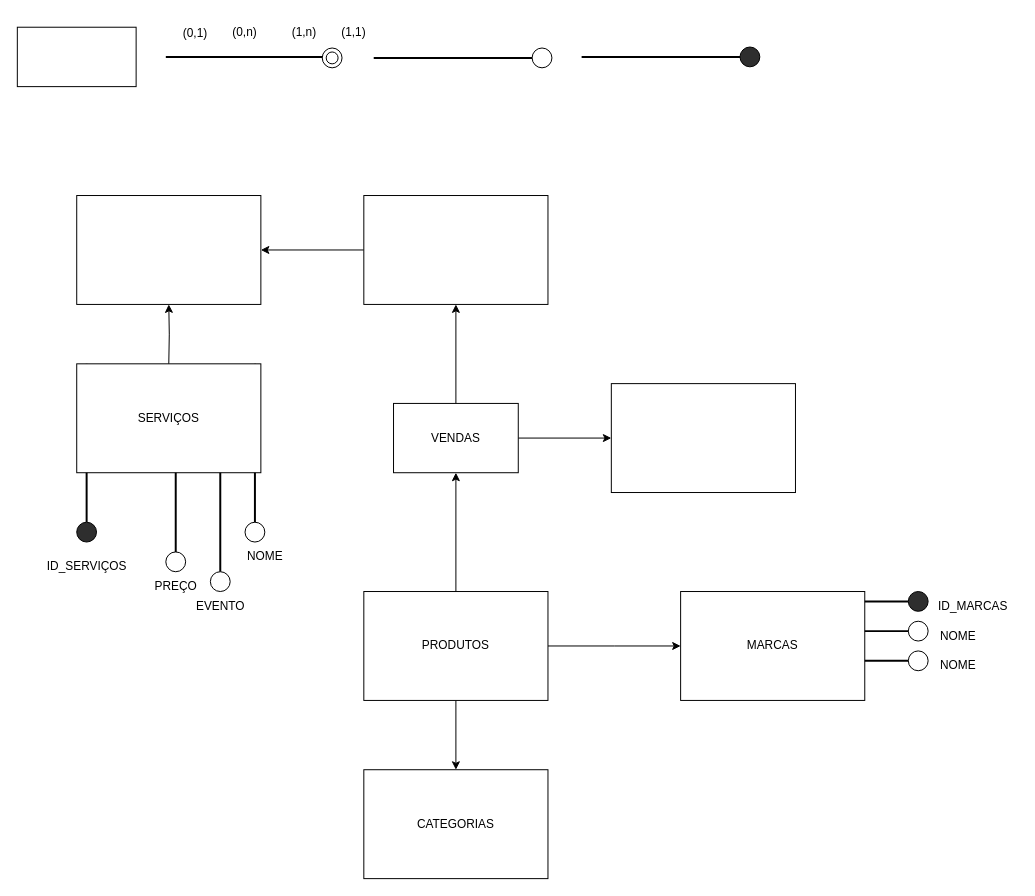
This 1035x896 diagram has some shape labels left out. The shapes that lost their labels are listed below. From the top down, each one's centre as x and y in pixels, then its label:
the point at 168,249: AGENDA
the point at 455,249: CLIENTES
the point at 702,438: FORMAS PAGAMENTO
